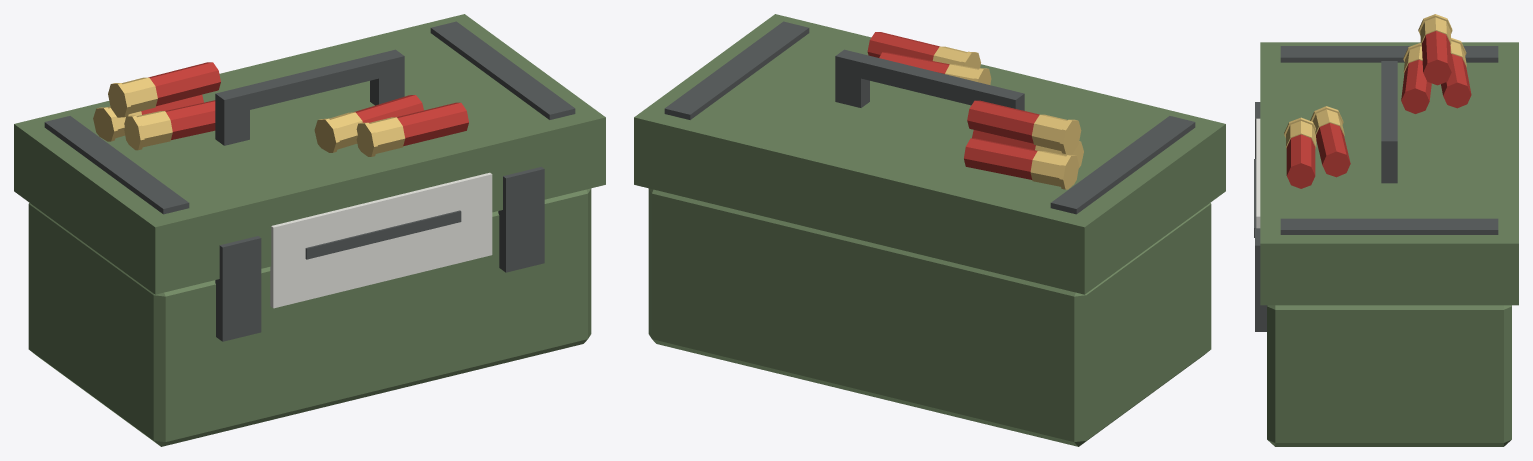
Rendered from ammo_box.glb.
3 renders of one model, left to right at view 1: azimuth 30°, elevation 25°; view 2: azimuth 150°, elevation 25°; view 3: azimuth 270°, elevation 25°, orthographic. The views are drawn at different scales.
Visible parts, largest first — view 1: AmmoBox_ammo_green, AmmoBox_metal_dark, AmmoBox_label_white, AmmoBox_shell_red, AmmoBox_ammo_brass; view 2: AmmoBox_ammo_green, AmmoBox_metal_dark, AmmoBox_shell_red, AmmoBox_ammo_brass; view 3: AmmoBox_ammo_green, AmmoBox_metal_dark, AmmoBox_shell_red, AmmoBox_ammo_brass, AmmoBox_label_white.
Part boxes in pixels (x1,y1,x2,y2): AmmoBox_ammo_green: [14, 14, 605, 446]; AmmoBox_metal_dark: [44, 21, 575, 341]; AmmoBox_label_white: [270, 172, 492, 308]; AmmoBox_shell_red: [141, 62, 468, 146]; AmmoBox_ammo_brass: [93, 77, 405, 156]; AmmoBox_ammo_green: [634, 14, 1225, 446]; AmmoBox_metal_dark: [664, 21, 1195, 214]; AmmoBox_shell_red: [867, 32, 1039, 179]; AmmoBox_ammo_brass: [932, 46, 1083, 189]; AmmoBox_ammo_green: [1260, 42, 1518, 446]; AmmoBox_metal_dark: [1254, 46, 1498, 331]; AmmoBox_shell_red: [1286, 31, 1471, 188]; AmmoBox_ammo_brass: [1284, 14, 1466, 148]; AmmoBox_label_white: [1256, 118, 1260, 228].
Size of the model in its own units: 0.35 by 0.214 by 0.1945.
